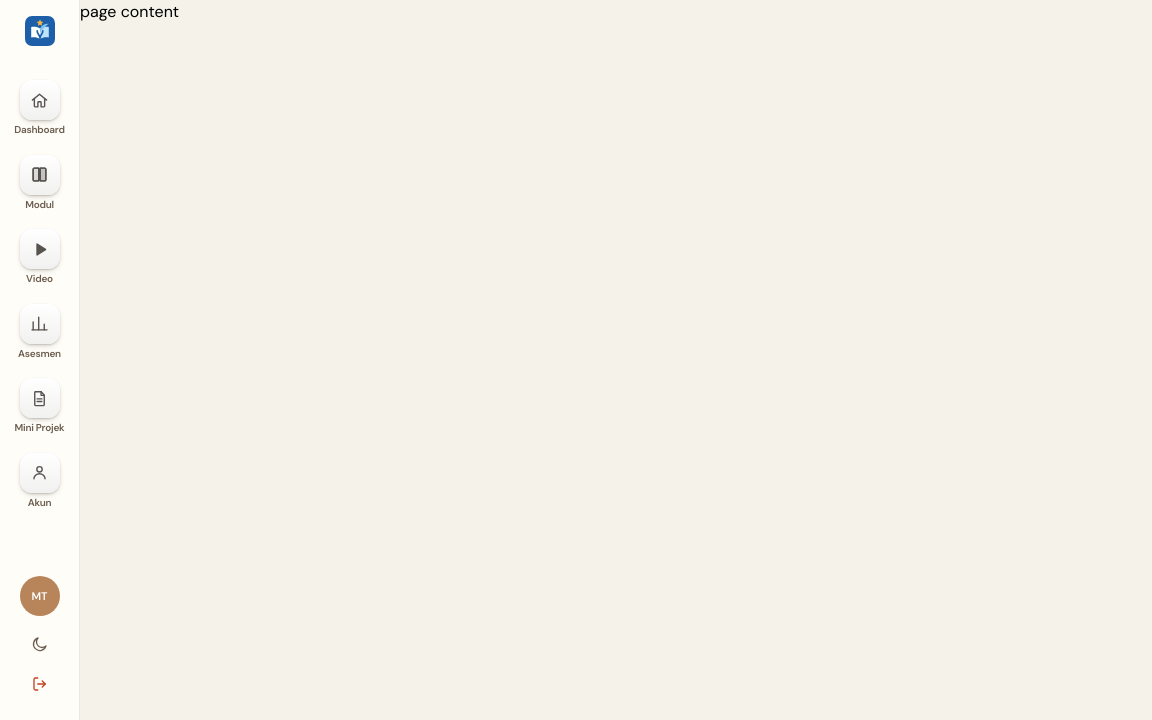
Test: Layout theme toggle › klik toggle mengganti label dan menyimpan tema ke localStorage
What coordinates should you click on to do the following:
click the button named "Ganti ke tema gelap"
I would click on:
 (40, 644)
Its box is [20,624,60,664].
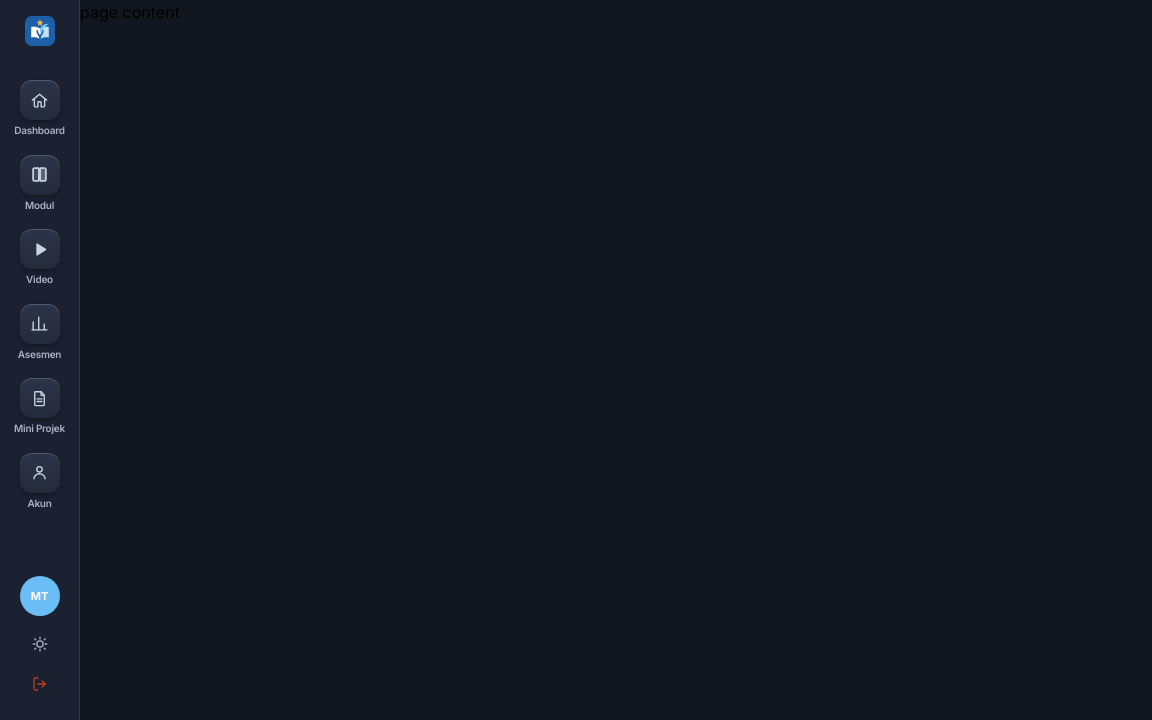
expect the button named "Ganti ke tema terang" is shown: met, box [20,624,60,664]
